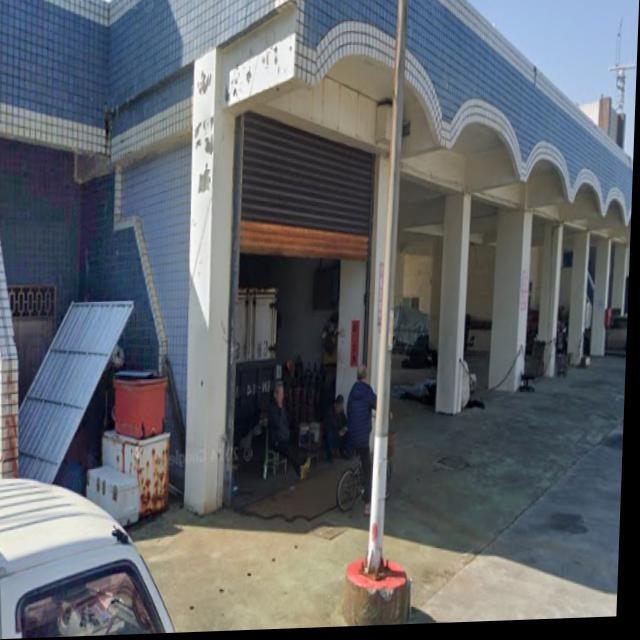pollute: (93, 371, 174, 522), (395, 303, 436, 364), (395, 382, 440, 412)
